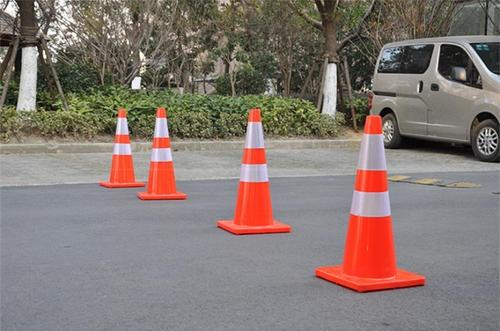cone_barrel: (330, 117, 410, 286), (219, 110, 286, 235), (138, 107, 183, 200), (99, 107, 139, 188)
